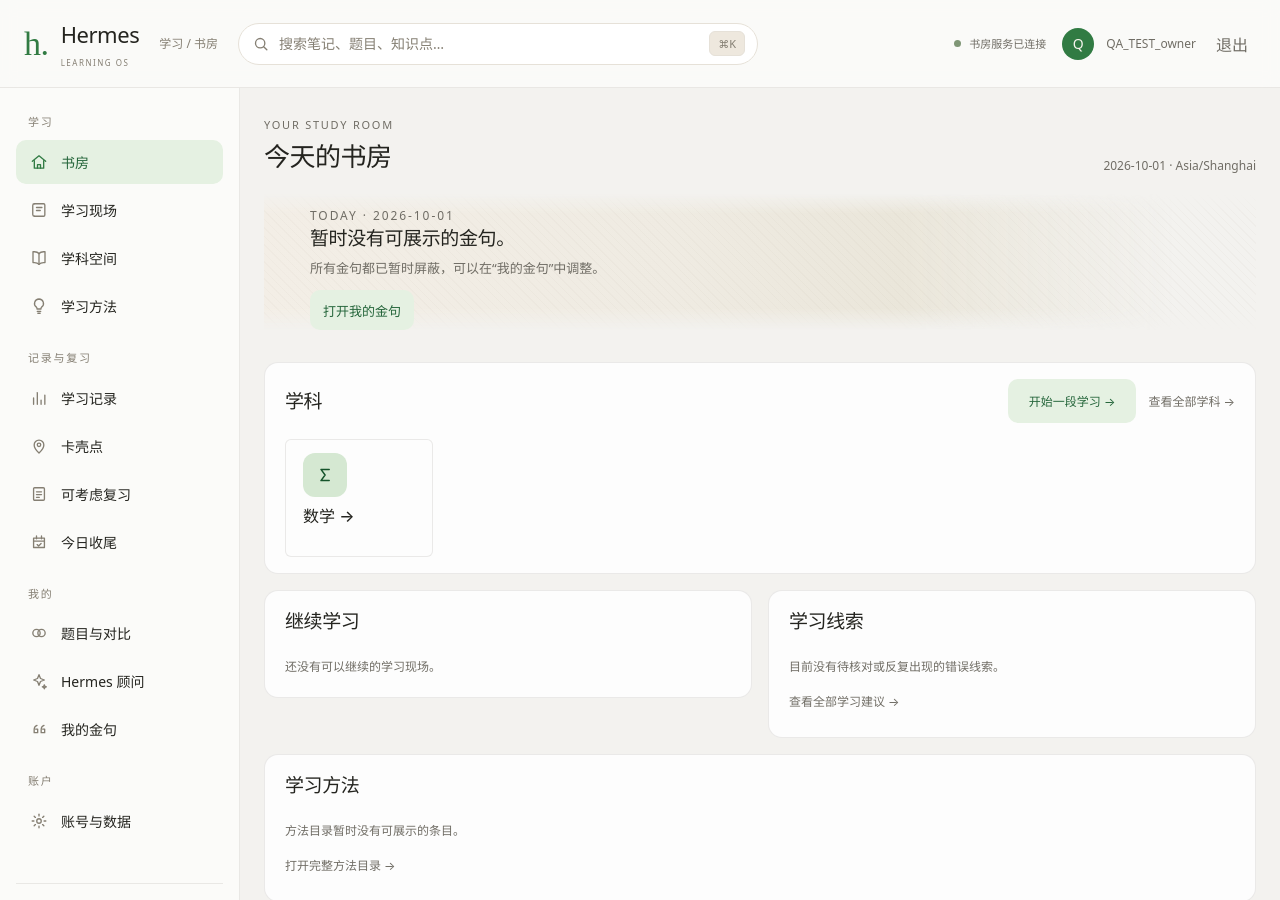
retains the draft and uncertain operation only when the same user signs back in: true
Click the button "开始一段学习 →" at [1072, 401], box [1008,379,1136,423]
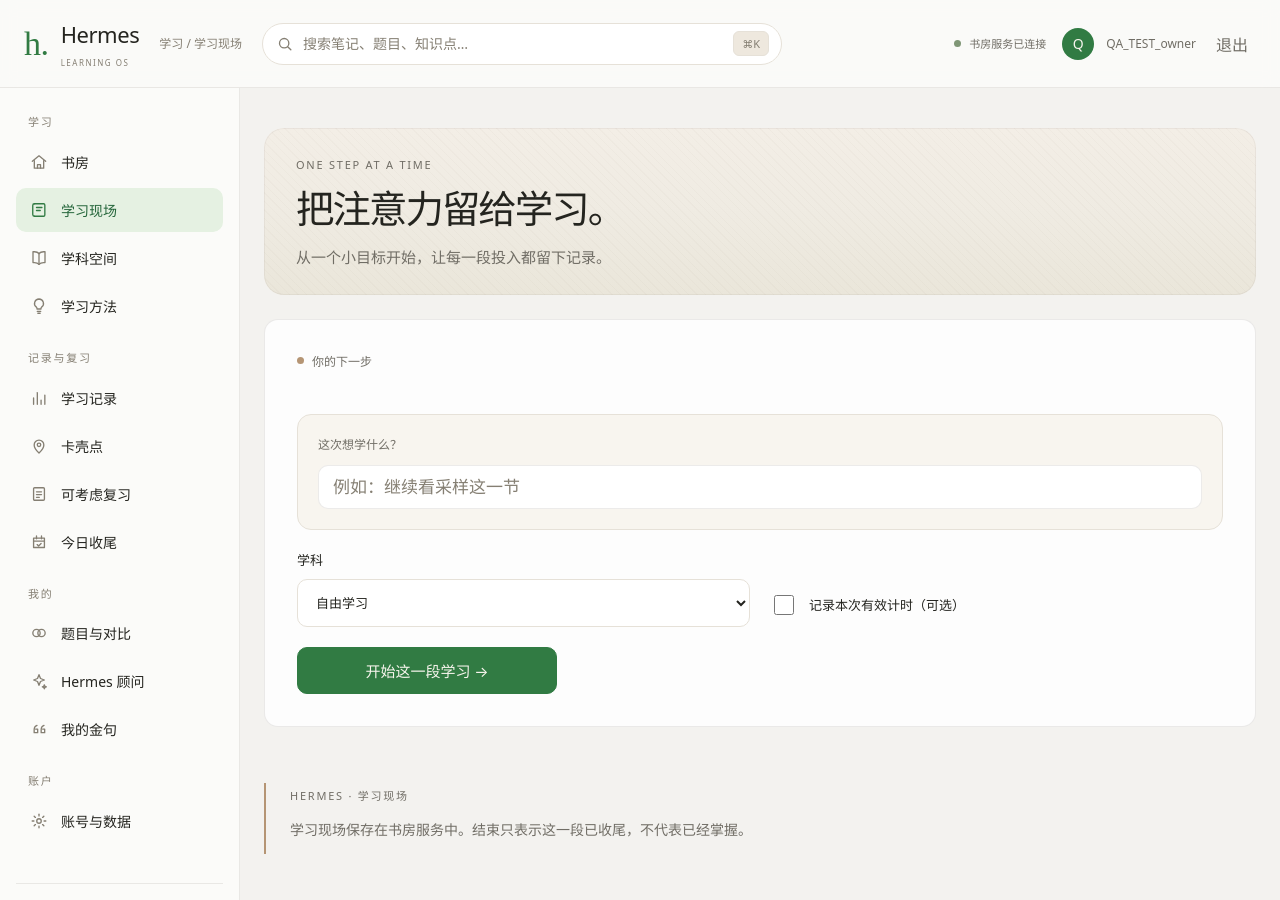
Type "保留未确认目标" into the field labelled "这次想学什么？" at [760, 487], box [318,465,1202,509]
Select "数学" in the dropdown labelled "学科" at [524, 603], box [297,579,750,627]
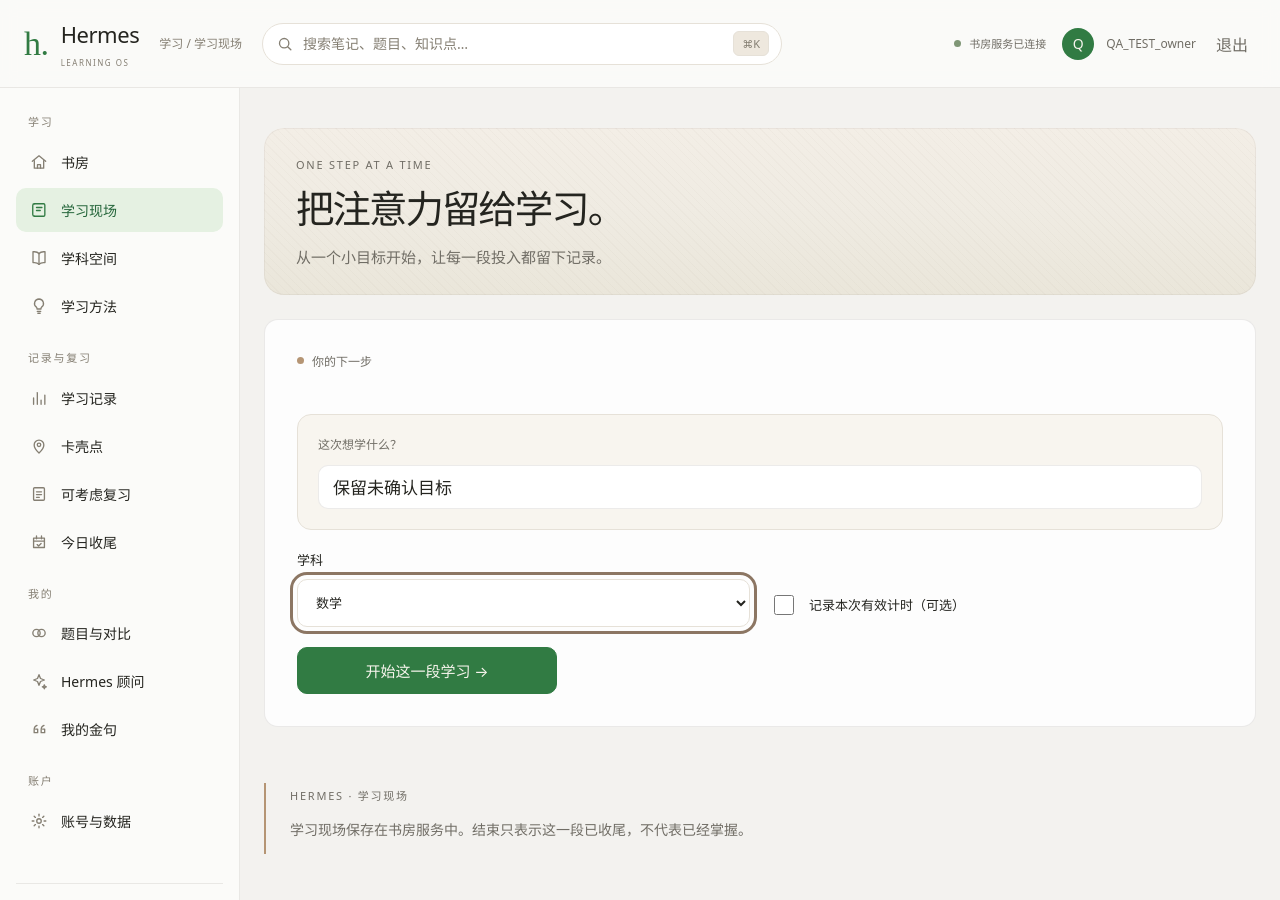
Click the button "开始这一段学习 →" at [427, 670], box [297,647,557,694]
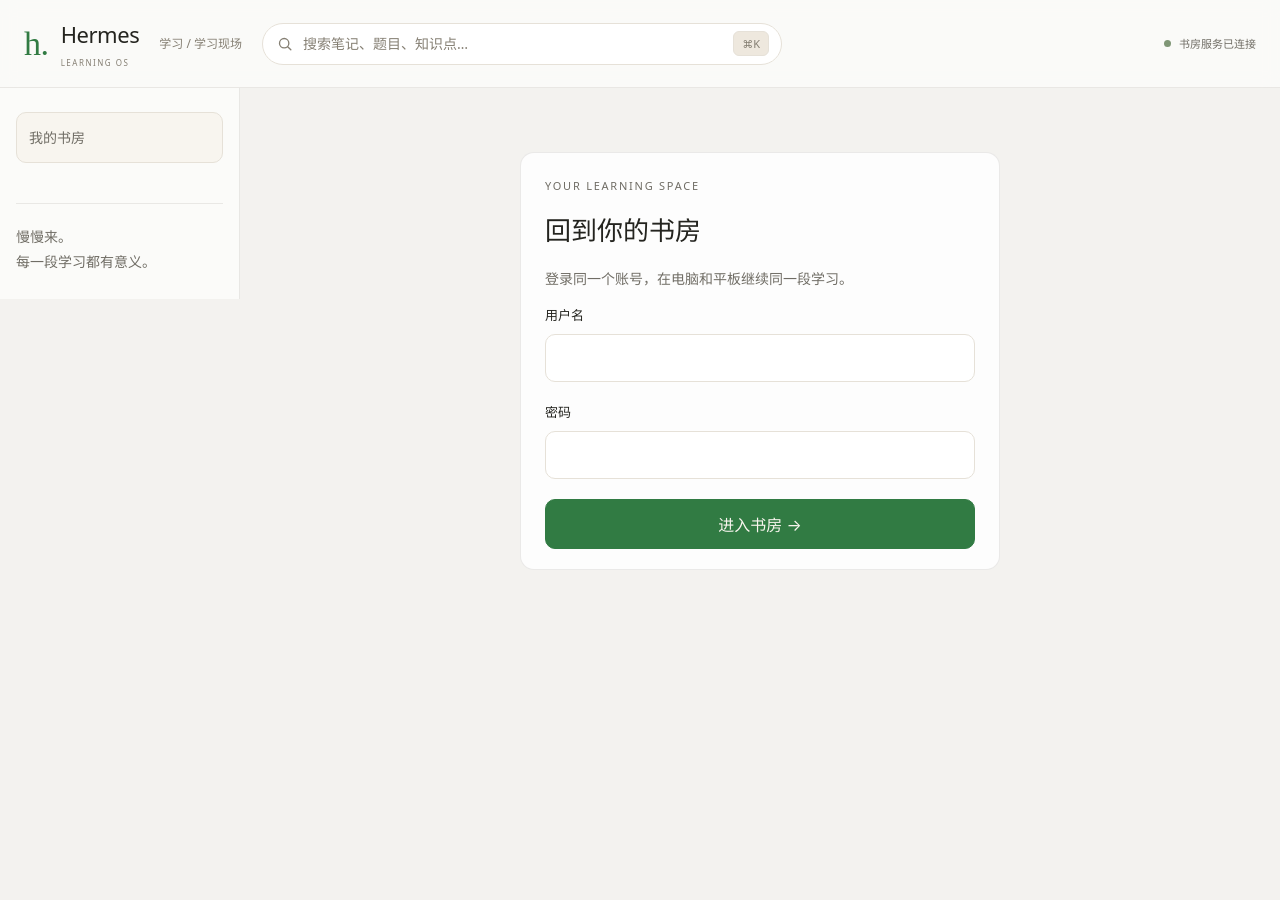
Type "QA_TEST_owner" into the field labelled "用户名" at [760, 358], box [545,334,975,382]
Type "test-password" into the password field labelled "密码" at [760, 455], box [545,431,975,479]
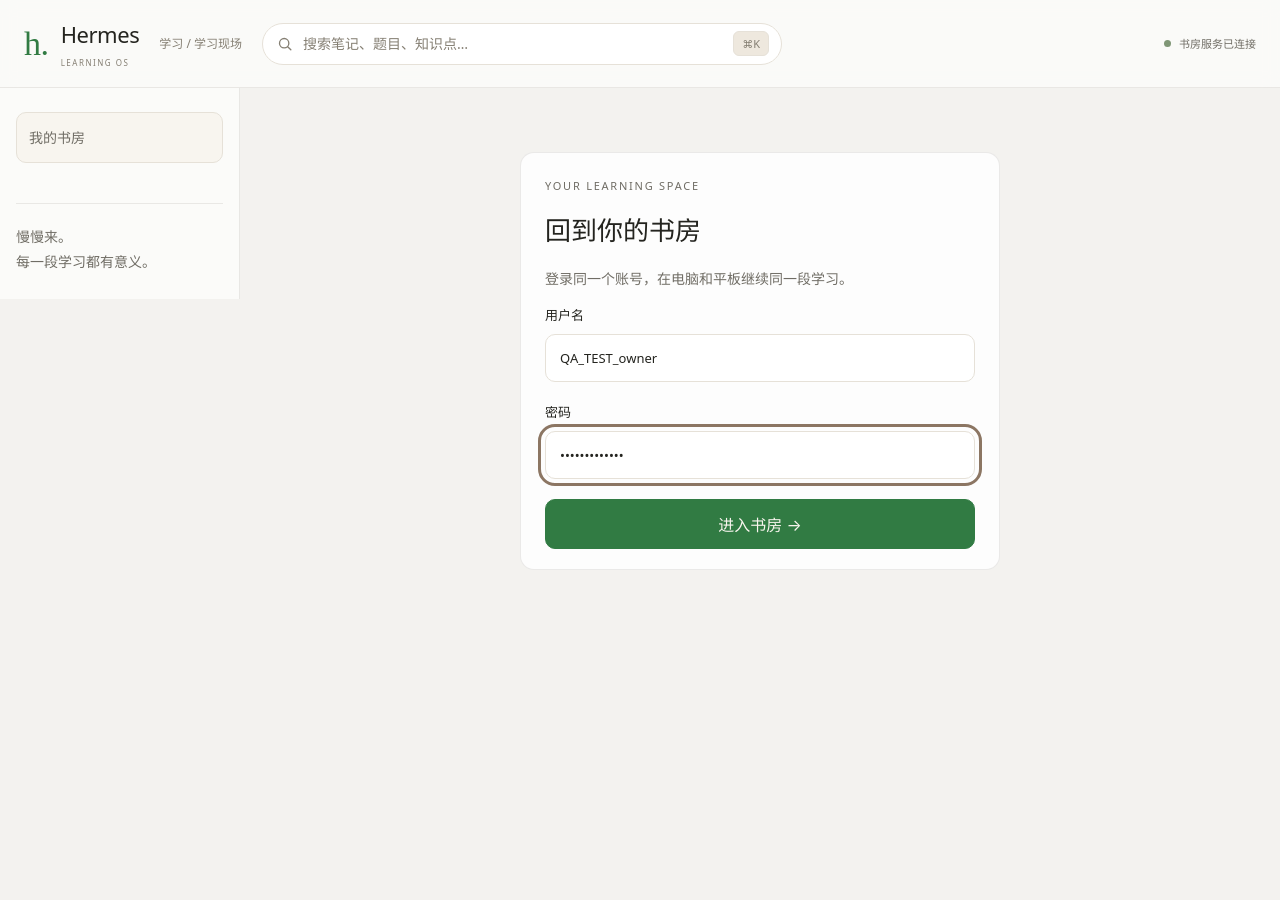
Click the button "进入书房 →" at [760, 524], box [545,499,975,549]
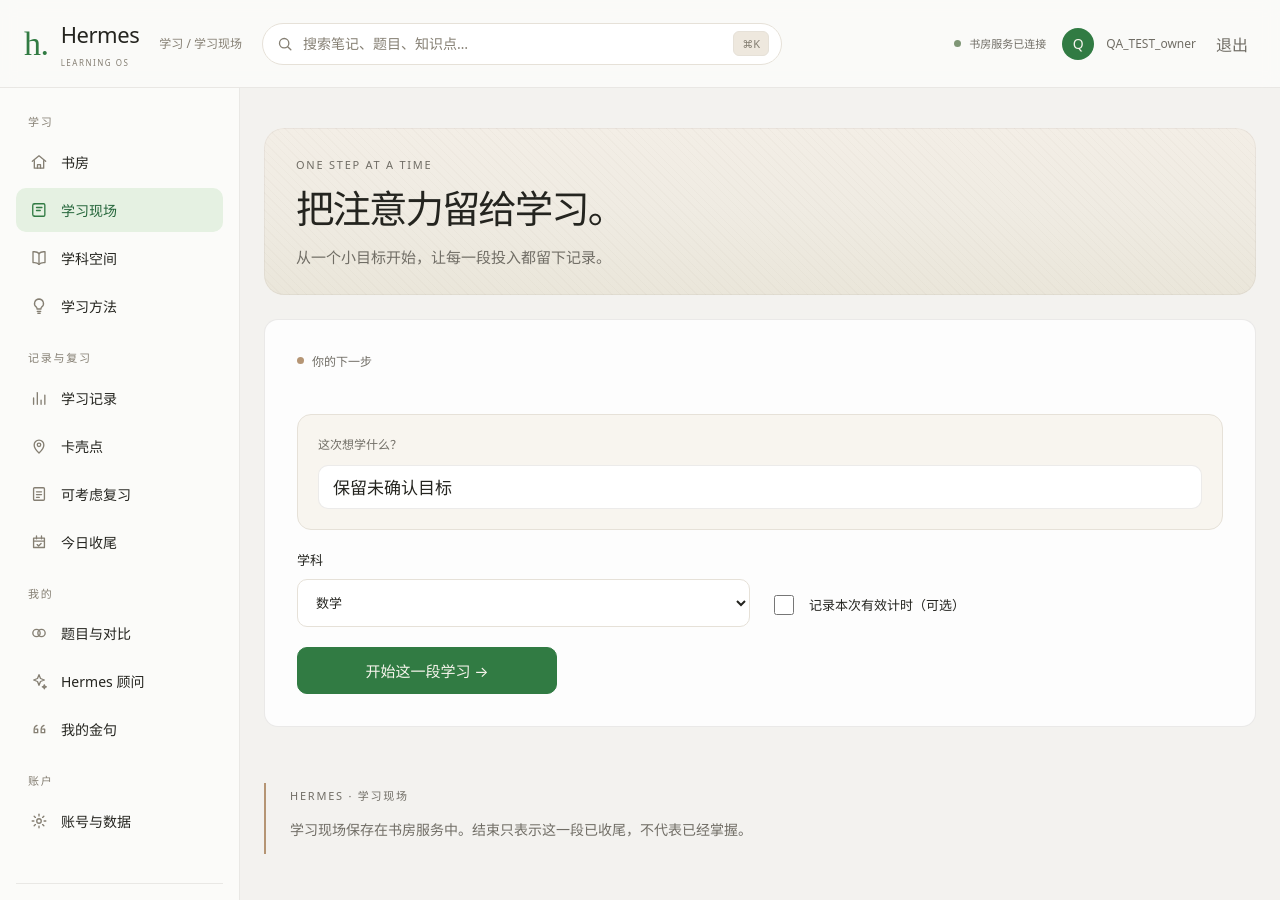
Expected: the field labelled "这次想学什么？" holds "保留未确认目标", [318,465,1202,509]
Expected: the dropdown labelled "学科" shows "数学", [297,579,750,627]
Click the button "开始这一段学习 →" at [427, 670], box [297,647,557,694]
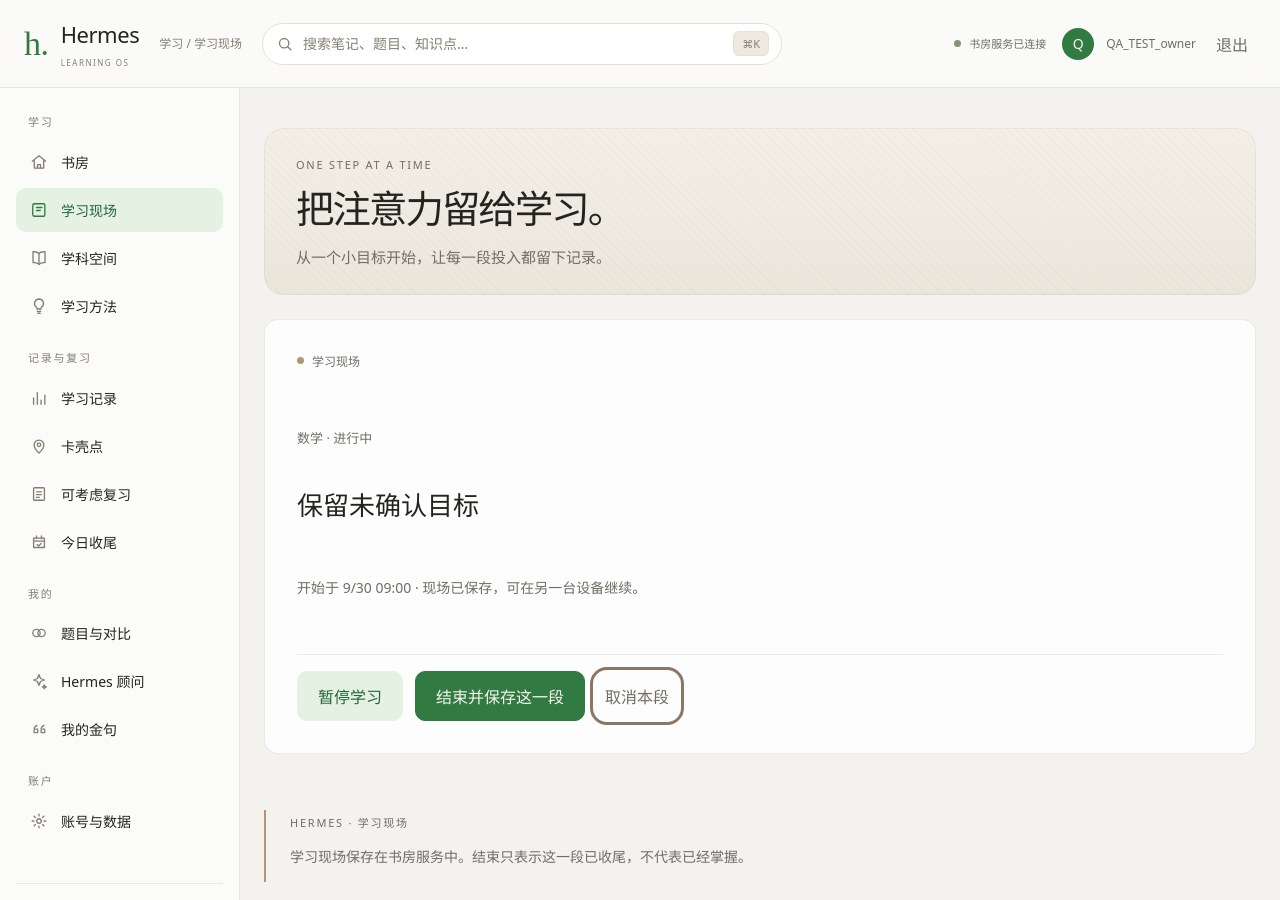
Expected: the button "暂停学习" is shown, [297,671,403,721]
